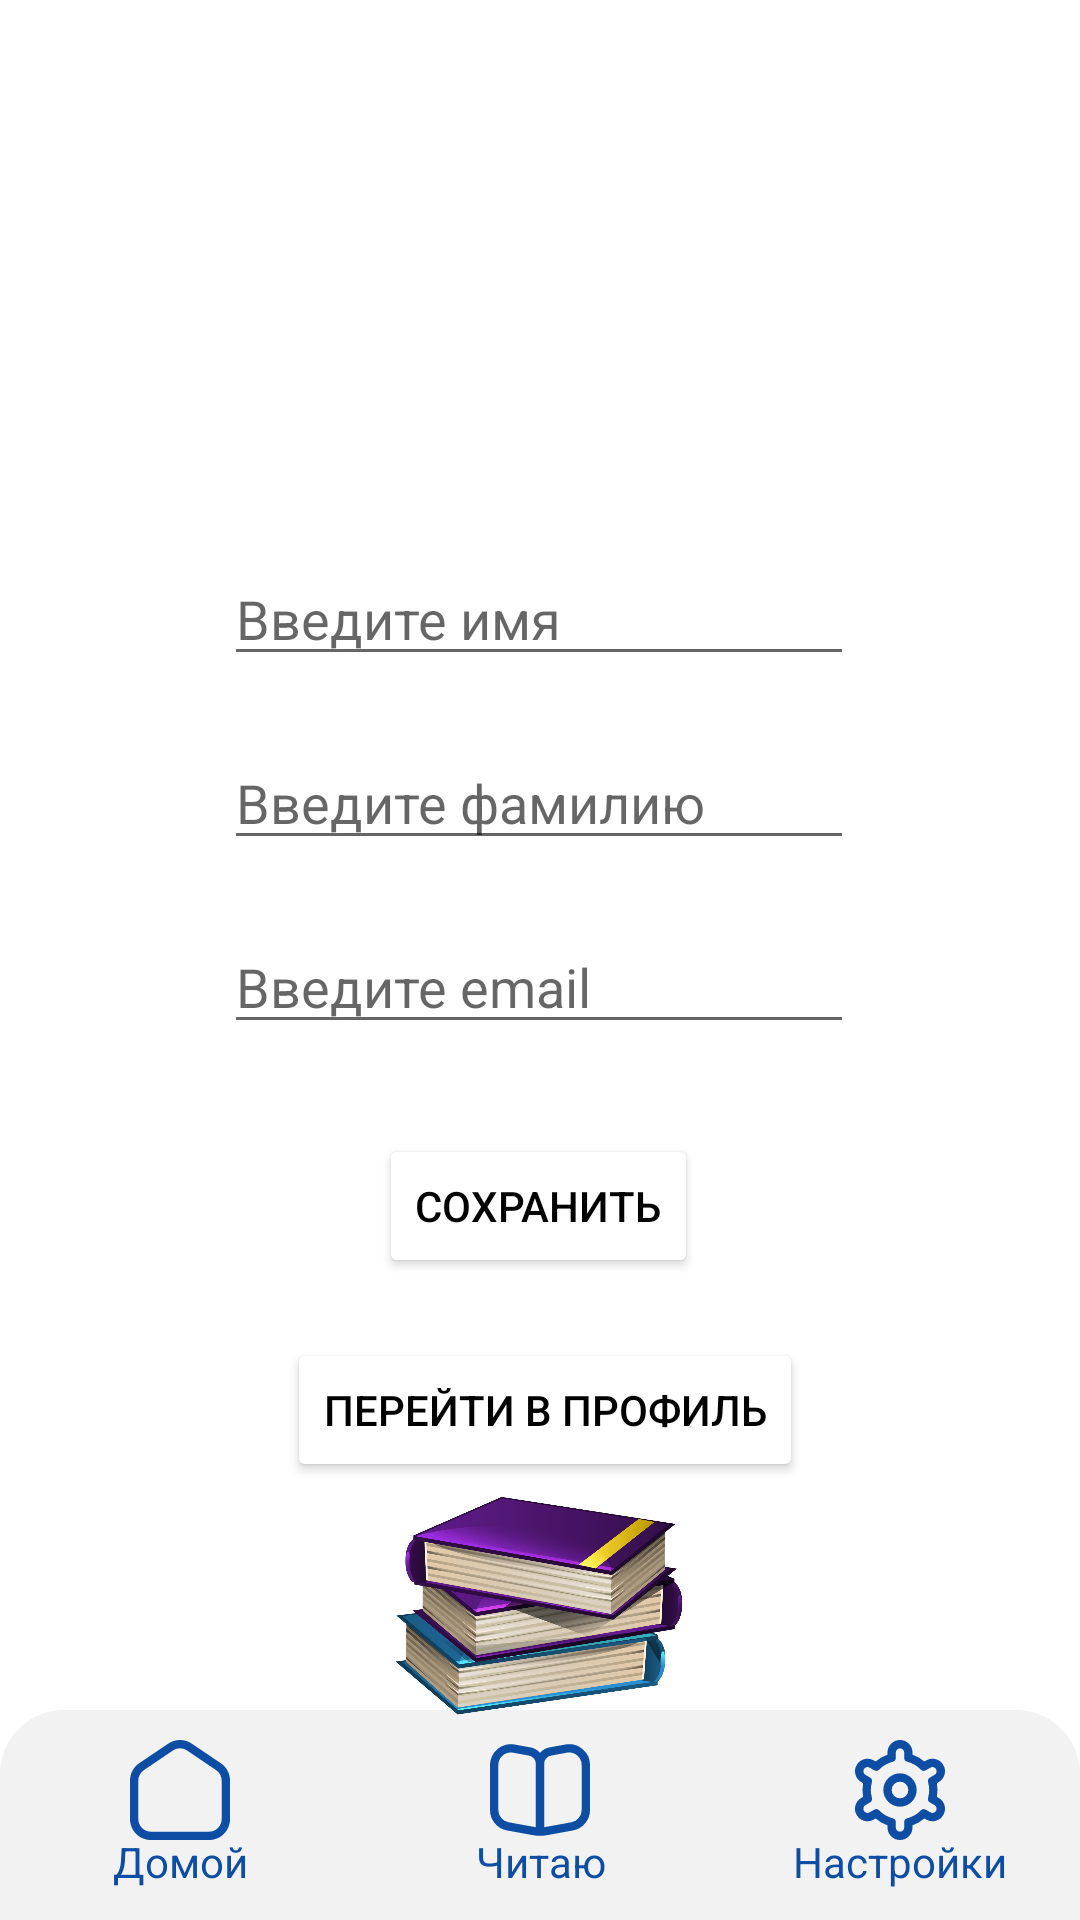

Screen size 1080 × 1920. Icon name, then its box in pixels as (x1, y1, x2, y2):
book: (490, 1744, 590, 1836)
books picture: (396, 1497, 682, 1715)
